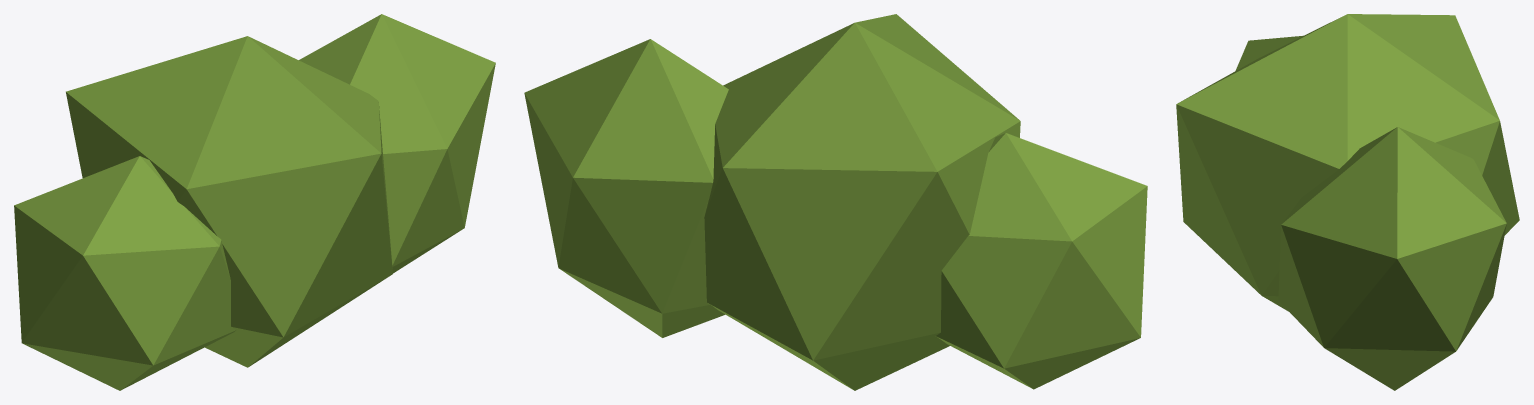
The model's file is bg_bush.fbx.
The picture shows the model from 3 angles, left to right: view 1: azimuth 30°, elevation 25°; view 2: azimuth 150°, elevation 25°; view 3: azimuth 270°, elevation 25°; orthographic projection. The views are drawn at different scales.
Parts seen in each view (by area): view 1: c_7A9E3E_SmoothPlastic; view 2: c_7A9E3E_SmoothPlastic; view 3: c_7A9E3E_SmoothPlastic.
Boxes of the visible parts, box(x1,y1,x2,y2) form: c_7A9E3E_SmoothPlastic: box(14, 14, 495, 390); c_7A9E3E_SmoothPlastic: box(524, 14, 1147, 390); c_7A9E3E_SmoothPlastic: box(1176, 14, 1519, 390).
Size of the model in its own units: 7.8 by 4.8 by 4.5.
